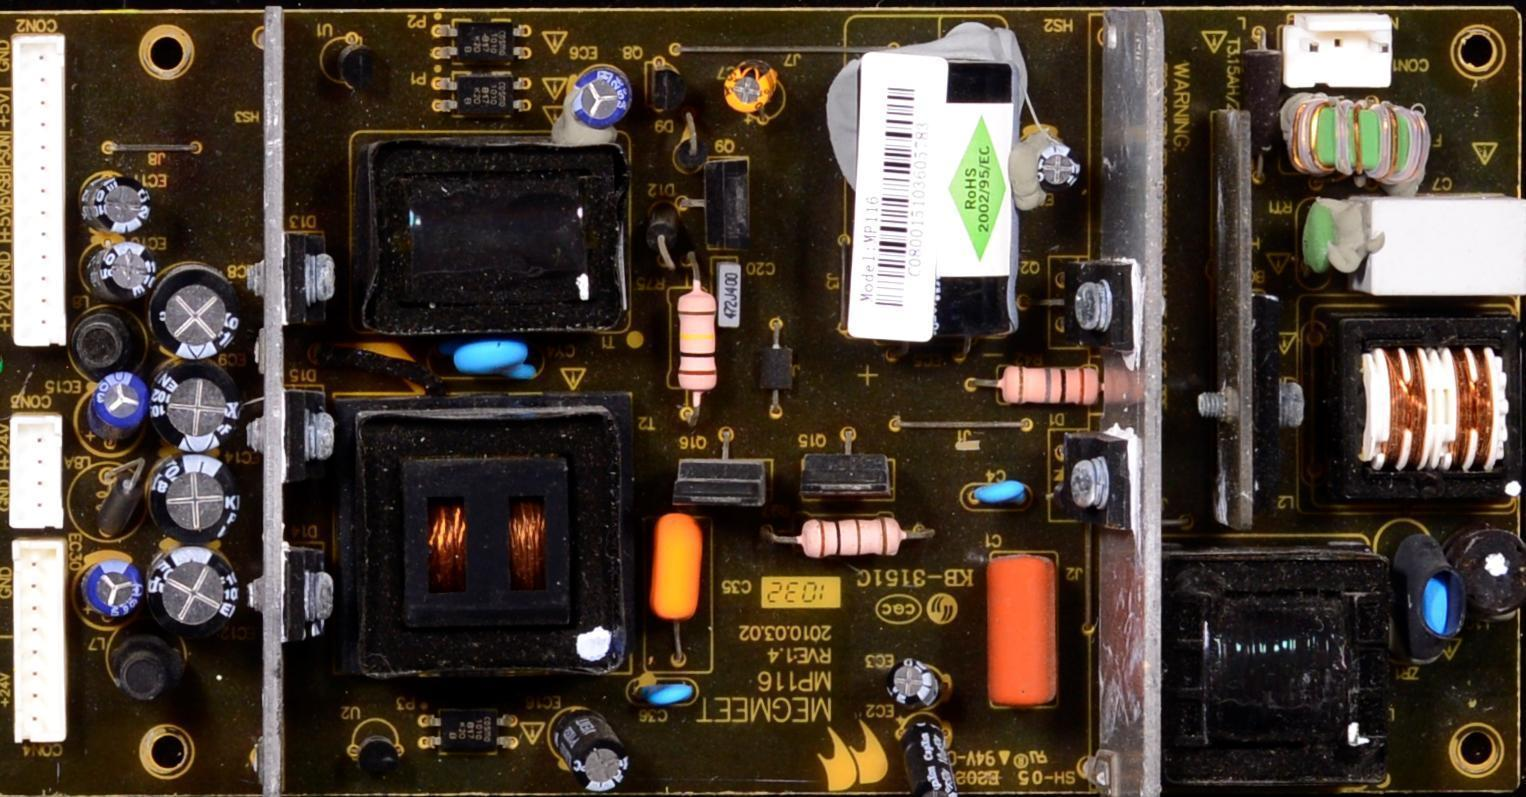Capacitor: (638, 510, 713, 673), (152, 360, 244, 454), (154, 265, 240, 359), (152, 460, 245, 542), (153, 548, 239, 636), (557, 707, 624, 796), (569, 67, 635, 134), (90, 242, 159, 303), (86, 559, 144, 624), (444, 339, 534, 381), (89, 368, 152, 428), (88, 169, 147, 231), (721, 62, 771, 120), (711, 253, 745, 331), (628, 680, 698, 704)
Connector: (11, 32, 70, 348), (12, 539, 71, 743), (985, 552, 1061, 708), (1281, 15, 1393, 89), (10, 413, 67, 530), (962, 484, 1032, 506)
Resistor: (669, 276, 725, 403), (767, 521, 932, 559), (989, 369, 1108, 405)
Transistor: (848, 50, 1017, 342), (671, 458, 773, 507), (800, 451, 895, 500), (702, 160, 748, 247)
